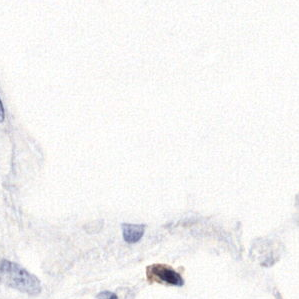Lymphocyte: (144, 263, 187, 287)
